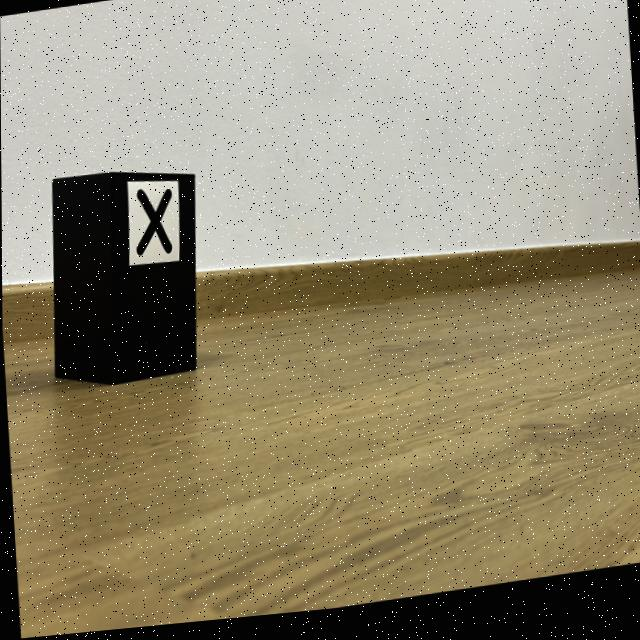X: (136, 192, 172, 259)
